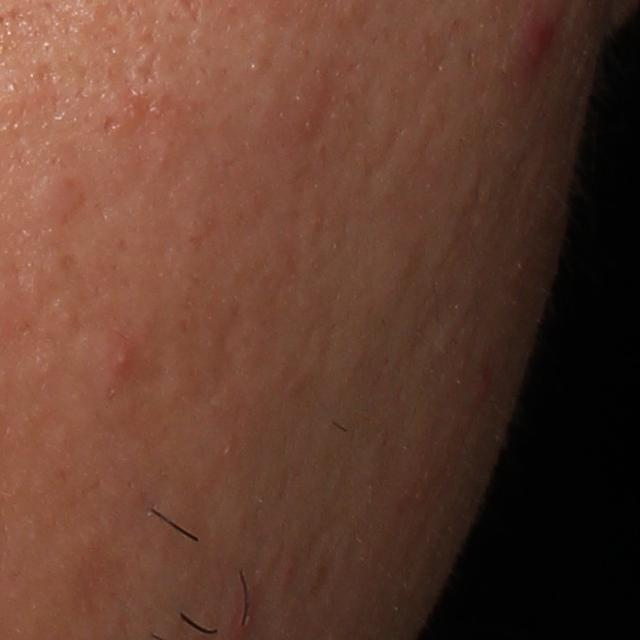atrophic_scar: (133, 46, 163, 84), (101, 113, 124, 138)
papule: (21, 169, 88, 224), (518, 11, 556, 61), (110, 343, 136, 373)
